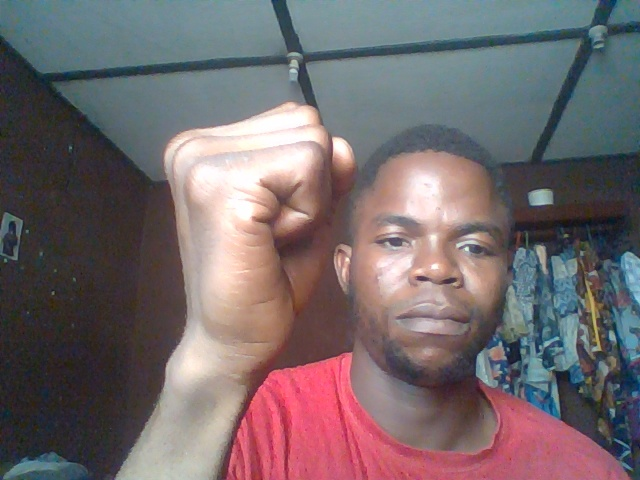Unity: (153, 98, 358, 408)
